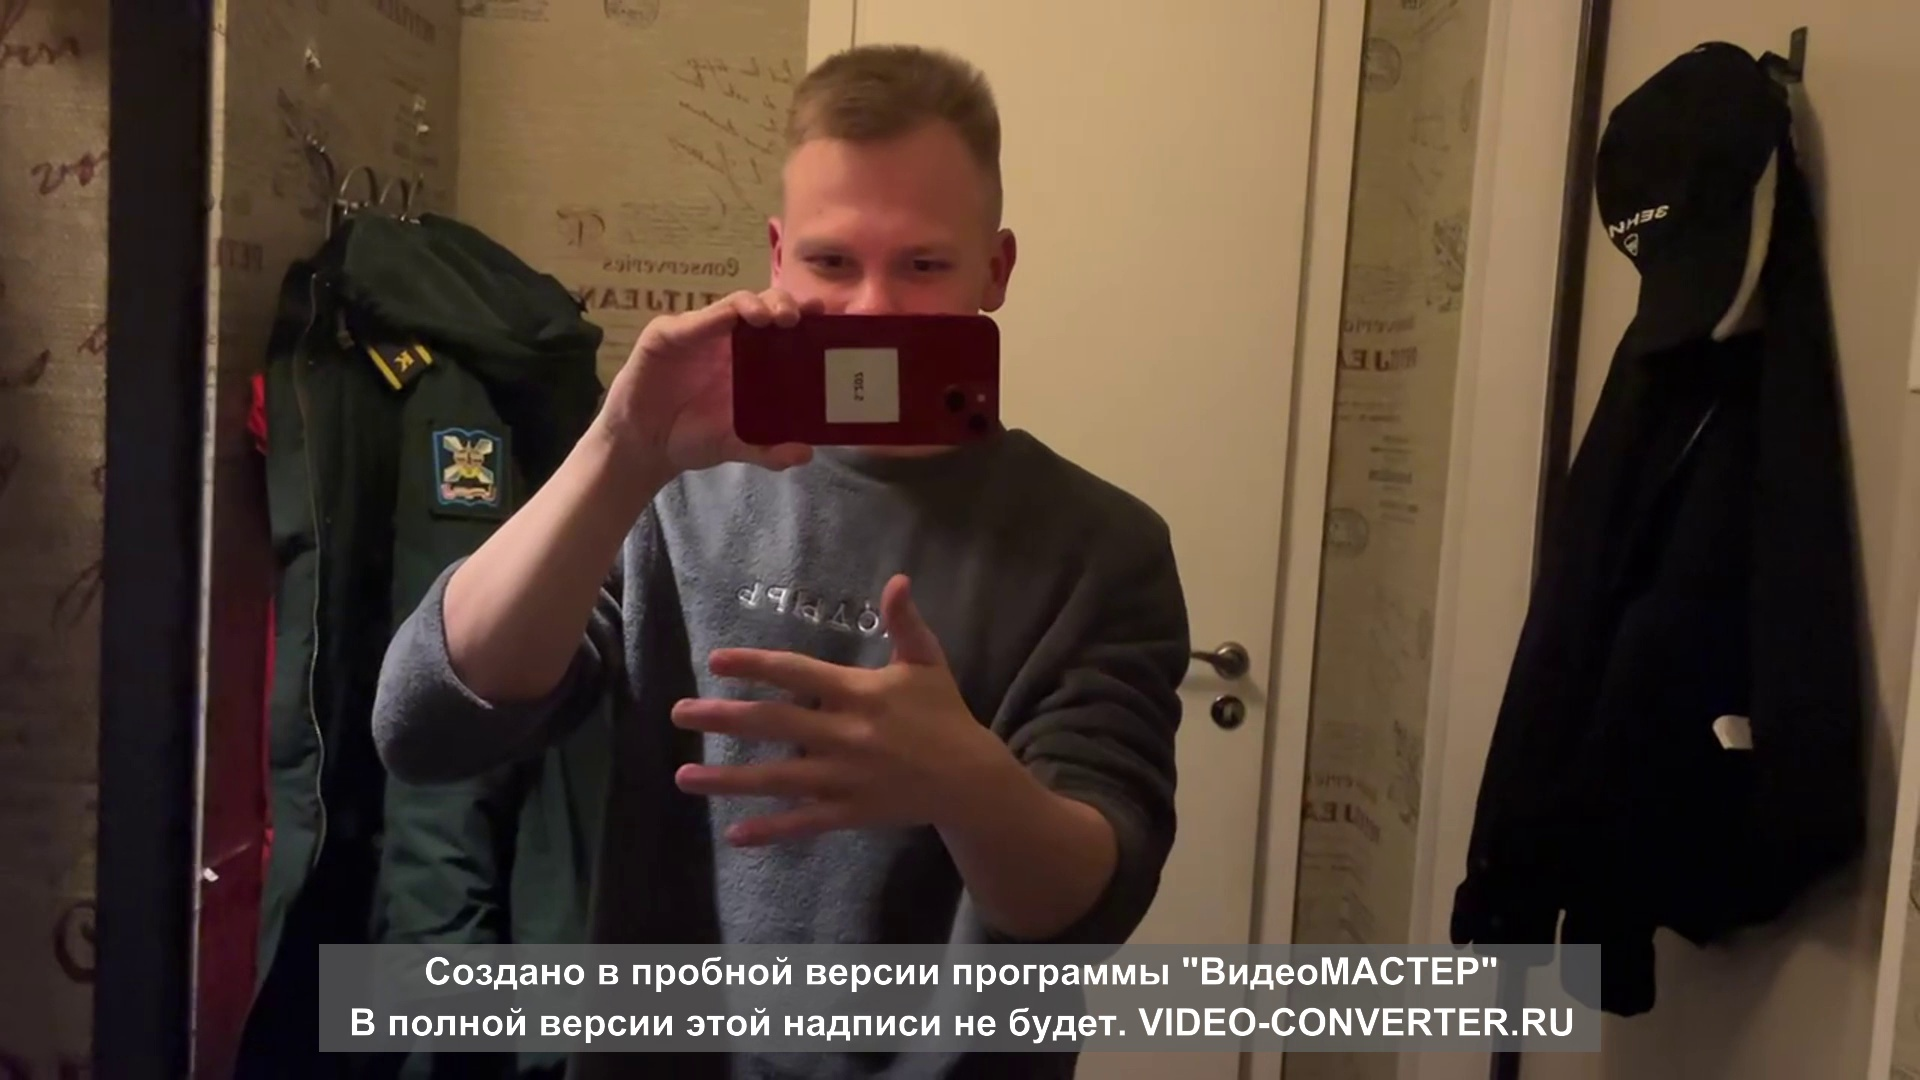Кисть: (673, 578, 945, 847)
